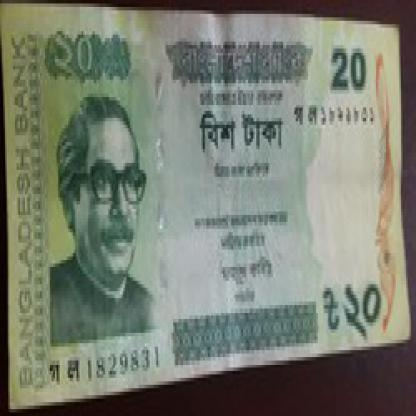Twenty: (188, 104, 291, 163), (47, 28, 133, 94), (323, 278, 384, 343), (323, 35, 371, 94)
